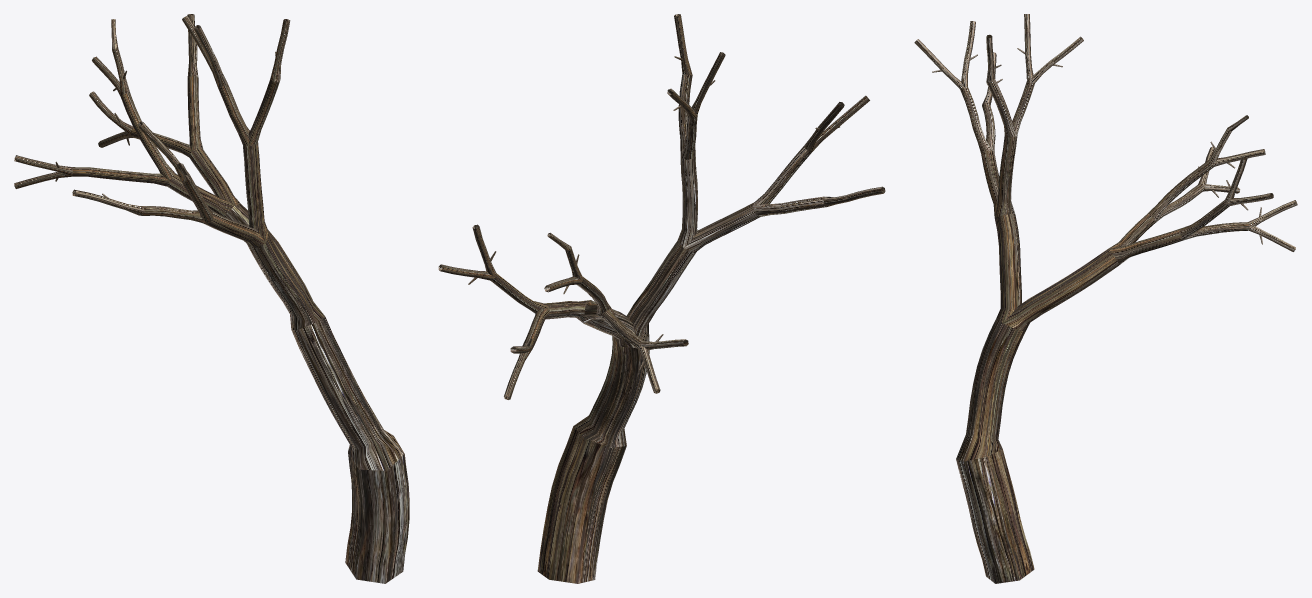
The model's file is bare_02.obj.
3 renders of one model, left to right at view 1: azimuth 30°, elevation 25°; view 2: azimuth 150°, elevation 25°; view 3: azimuth 270°, elevation 25°, orthographic. The views are drawn at different scales.
Visible parts, largest first — view 1: treeBare_02; view 2: treeBare_02; view 3: treeBare_02.
Part boxes in pixels (box(x1,y1,x2,y2)): treeBare_02: box(14, 14, 409, 583); treeBare_02: box(438, 14, 885, 583); treeBare_02: box(914, 14, 1297, 583).
Size of the model in its own units: 15.49 by 25.96 by 18.02.
Materials: 1 (1 with a texture image).
